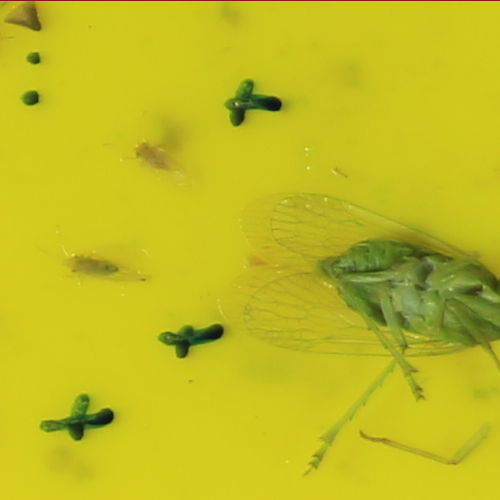Glycaspis: (61, 250, 120, 277), (131, 140, 171, 172)
